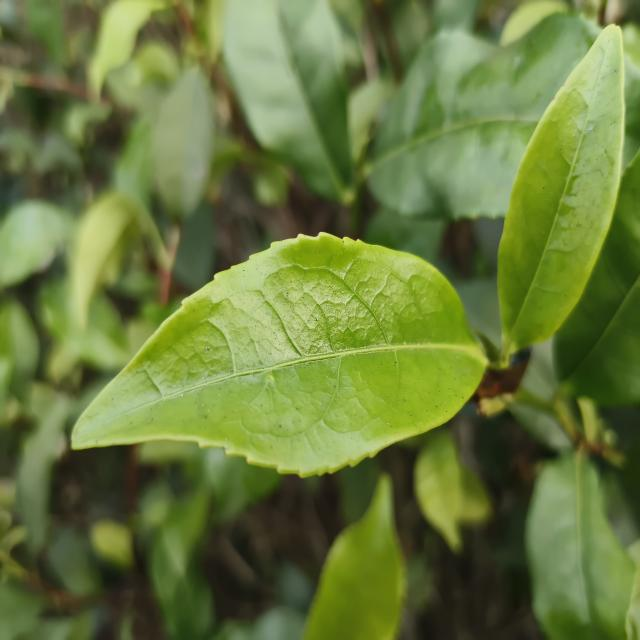Leaf: (72, 234, 485, 475), (368, 14, 595, 219), (498, 25, 625, 355), (223, 0, 354, 202), (554, 150, 640, 406), (525, 451, 635, 640), (304, 474, 407, 640), (152, 67, 213, 218), (39, 280, 132, 370), (17, 396, 68, 553), (72, 193, 130, 326), (88, 0, 165, 96), (150, 493, 209, 610), (0, 200, 71, 288), (414, 432, 462, 551)
